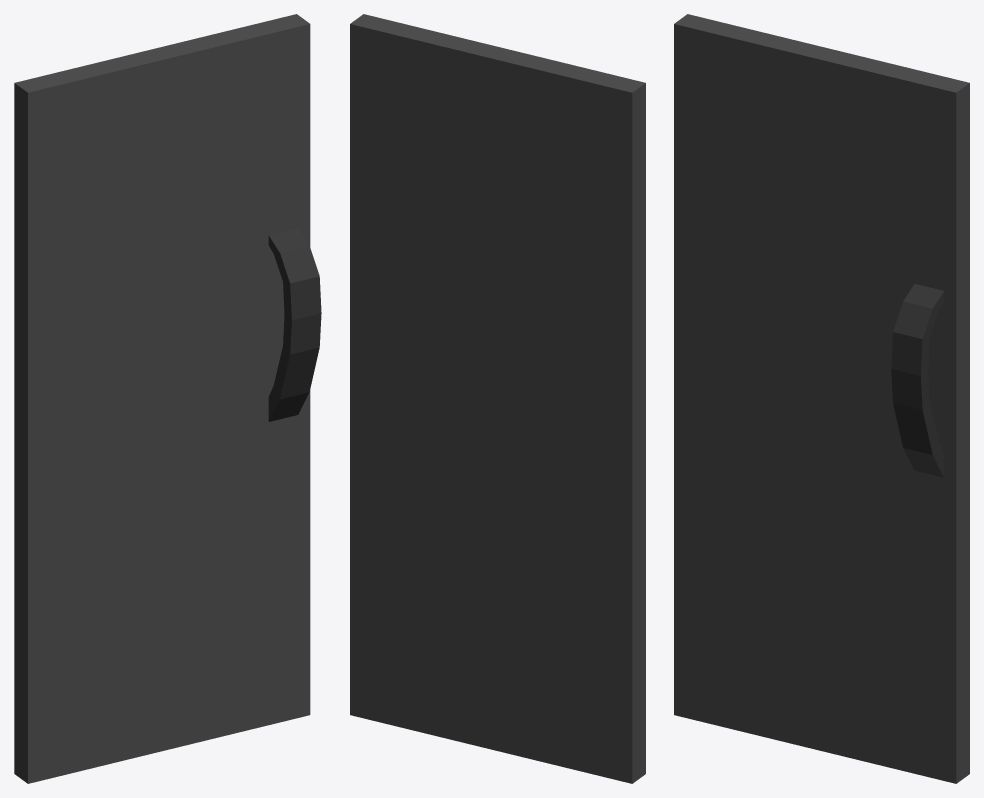
File: Expositor_Glass_Door_3.fbx
3 views of the same model, side by side, from view 1: azimuth 30°, elevation 25°; view 2: azimuth 150°, elevation 25°; view 3: azimuth 330°, elevation 25° (orthographic).
Parts seen in each view (by area): view 1: Expositor Glass Door 3; view 2: Expositor Glass Door 3; view 3: Expositor Glass Door 3.
Boxes of the visible parts, box(x1,y1,x2,y2) form: Expositor Glass Door 3: box(14, 14, 321, 783); Expositor Glass Door 3: box(350, 14, 645, 783); Expositor Glass Door 3: box(674, 14, 969, 783).
Bounding box in the file's own units: 32.87 × 76.89 × 7.45.
